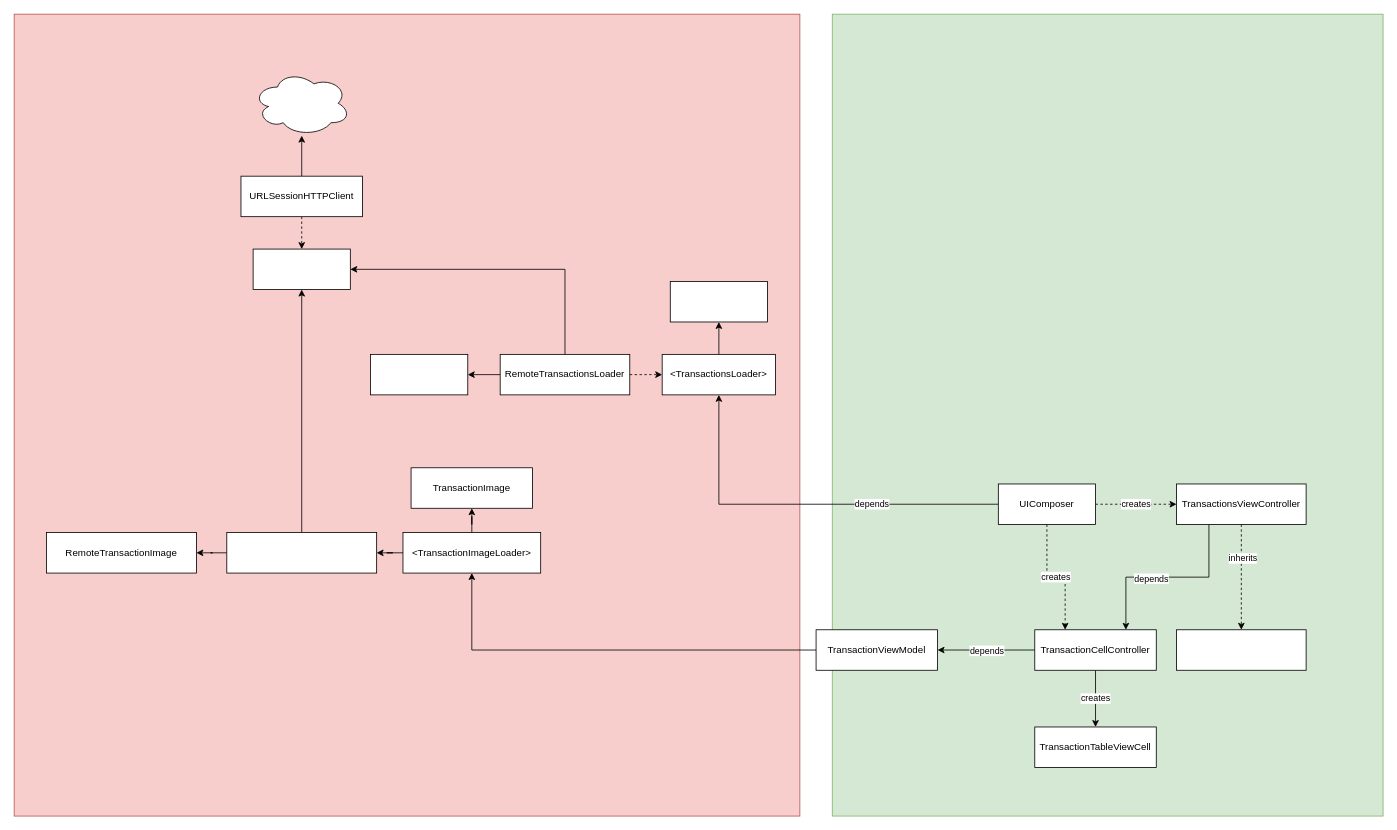
The diagram is 1397 pixels wide and 830 high, and some of its shapes have lost their labels. Each missing label, with the centre of its shape:
<HTTPClient>: point 301,269
RemoteTransaction: point 419,374
RemoteTransactionImageLoader: point 301,552
Server: point 301,103
Transaction: point 718,301
UIViewController: point 1241,649
